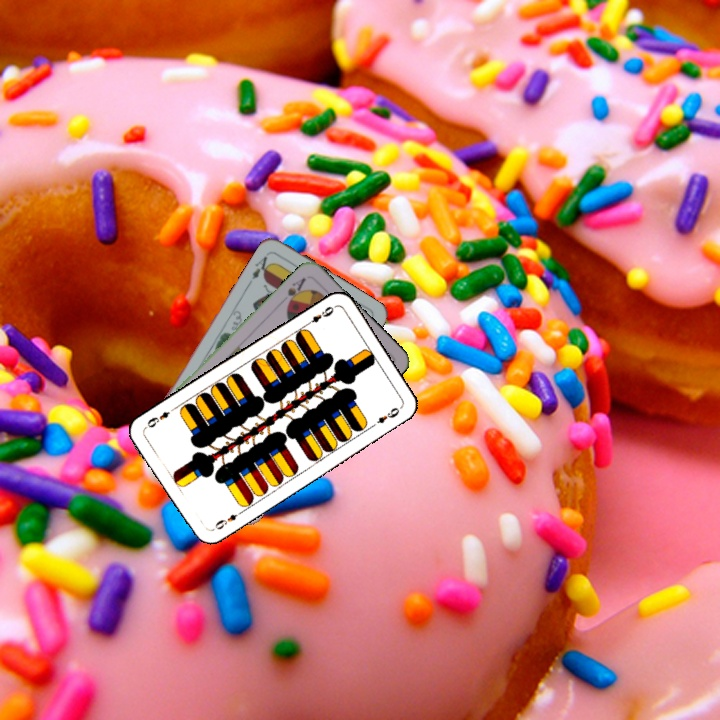E9: (301, 302, 337, 329), (208, 507, 245, 533)
EA: (248, 249, 274, 282)
SA: (283, 274, 309, 309)
